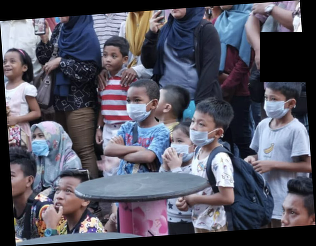mask_weared_incorrect: (188, 114, 217, 147)
with_mask: (262, 90, 289, 120), (125, 94, 152, 123), (170, 134, 195, 163), (30, 131, 50, 156)
without_mask: (50, 182, 85, 215), (280, 200, 313, 227), (102, 48, 123, 71), (4, 57, 24, 79)
